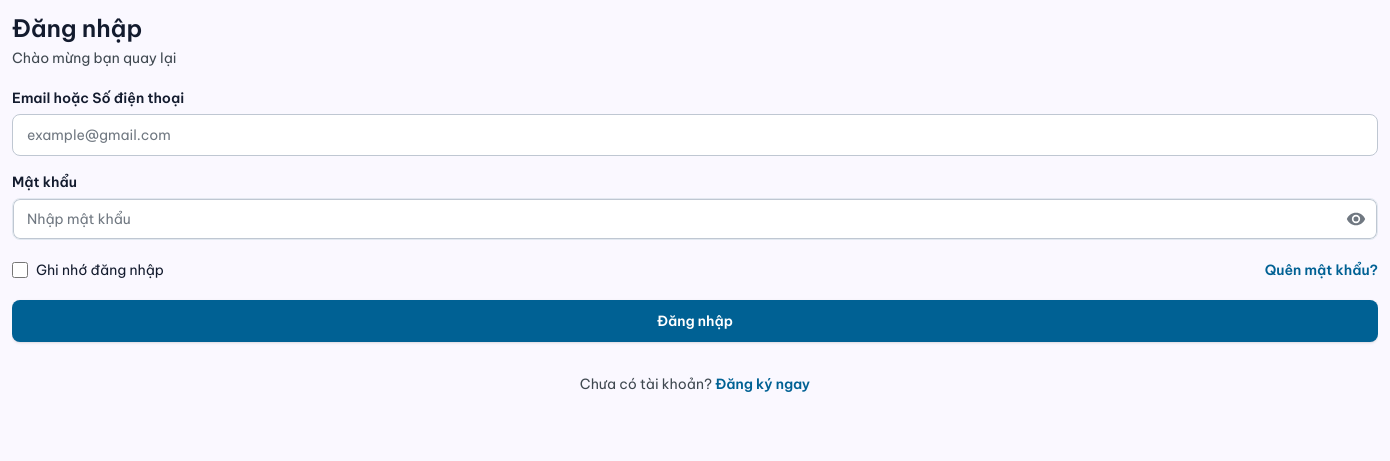
Test: LoginForm › shows validation error for empty identifier on submit
The width and height of the screenshot is (1390, 461).
Click the button "Đăng nhập".
click(695, 321)  # box [12,300,1378,342]
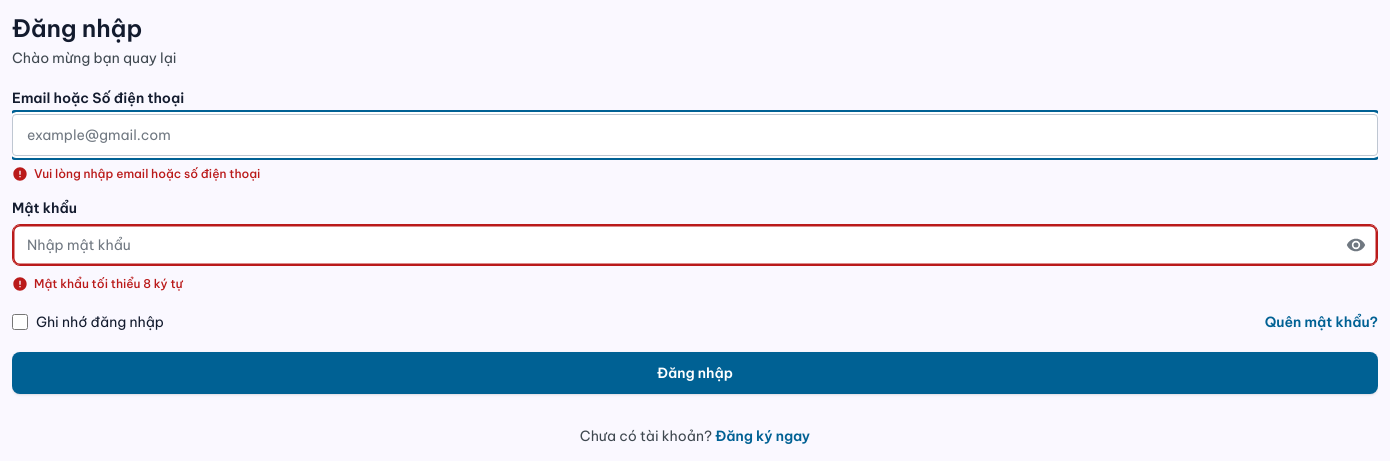
Now the text "Vui lòng nhập email hoặc số điện thoại" is shown, box [34,166,260,182]
